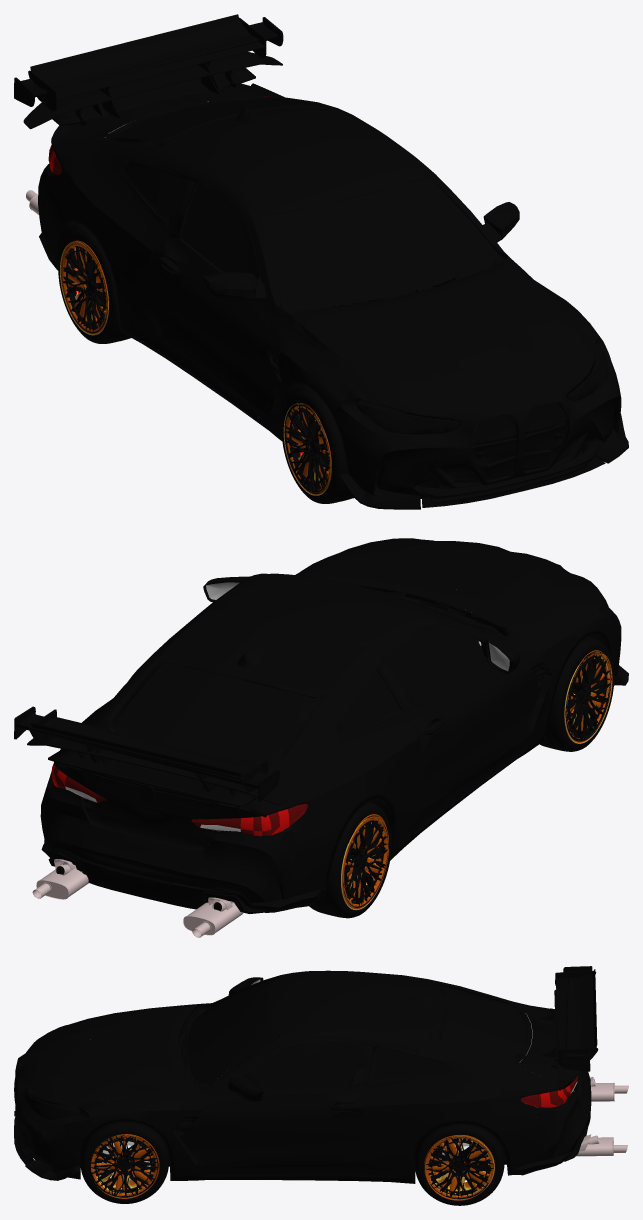
File: bmw_m4.glb
The picture shows the model from 3 angles, top to bottom: view 1: azimuth 30°, elevation 25°; view 2: azimuth 150°, elevation 25°; view 3: azimuth 270°, elevation 25°; orthographic projection. The views are drawn at different scales.
Visible parts, largest first — view 1: Glass, Hood_A, Body, Roof, Front_Bumper_A, Frontdoors, Spoiler_C, Grille, B_Pillar, Spoiler_B, Front_Lip_A, Headlights (+13 smaller); view 2: Body, Glass, Roof, RearBumper_A, Hood_A, Frontdoors, Trunk, B_Pillar, Diffuser, Spoiler_C, Spoiler_A, Spoiler_D (+15 smaller); view 3: Body, Glass, Hood_A, Frontdoors, Roof, B_Pillar, RearBumper_A, Front_Bumper_A, Spoiler_C, Tire_FL, Tire_BL, Trunk (+20 smaller).
Boxes of the visible parts, <box> form: Glass: <box>113,98,498,310</box>; Hood_A: <box>290,260,594,413</box>; Body: <box>48,87,604,440</box>; Roof: <box>162,106,429,215</box>; Front_Bumper_A: <box>330,344,621,498</box>; Frontdoors: <box>149,230,274,411</box>; Spoiler_C: <box>28,14,266,119</box>; Grille: <box>267,349,621,496</box>; B_Pillar: <box>60,96,502,405</box>; Spoiler_B: <box>23,52,282,129</box>; Front_Lip_A: <box>339,413,628,509</box>; Headlights: <box>354,342,609,436</box>; Body: <box>60,554,604,860</box>; Glass: <box>115,586,485,761</box>; Roof: <box>163,573,429,694</box>; RearBumper_A: <box>40,772,339,902</box>; Hood_A: <box>295,538,594,630</box>; Frontdoors: <box>406,657,531,800</box>; Trunk: <box>54,725,275,848</box>; B_Pillar: <box>107,585,608,859</box>; Diffuser: <box>41,843,326,913</box>; Spoiler_C: <box>29,709,267,791</box>; Spoiler_A: <box>14,706,279,801</box>; Spoiler_D: <box>48,749,256,807</box>; Body: <box>63,970,561,1183</box>; Glass: <box>186,979,527,1089</box>; Hood_A: <box>29,1004,194,1103</box>; Frontdoors: <box>199,1086,369,1165</box>; Roof: <box>268,971,441,1041</box>; B_Pillar: <box>80,977,532,1182</box>; RearBumper_A: <box>495,1071,591,1167</box>; Front_Bumper_A: <box>14,1038,97,1171</box>; Spoiler_C: <box>539,969,598,1065</box>; Tire_FL: <box>80,1122,169,1203</box>; Tire_BL: <box>414,1125,504,1205</box>; Trunk: <box>515,1003,578,1093</box>.
Bounding box in the file's own units: 0.4653 × 0.3097 × 1.06.
